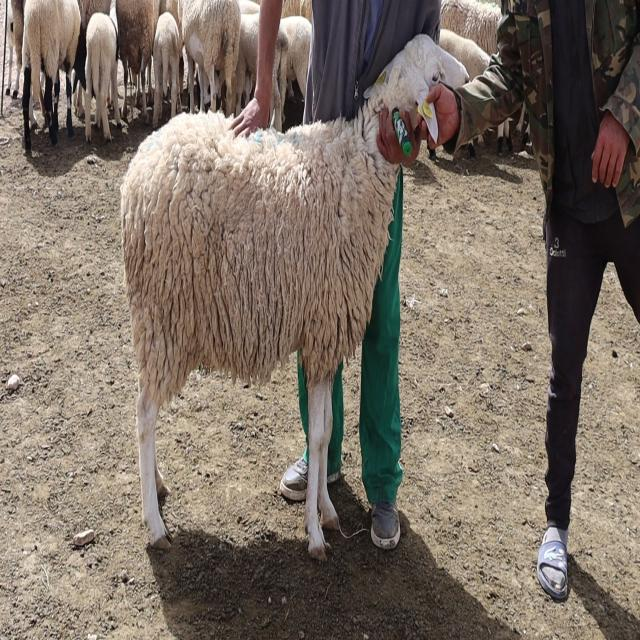Score_2: (121, 34, 469, 558)
